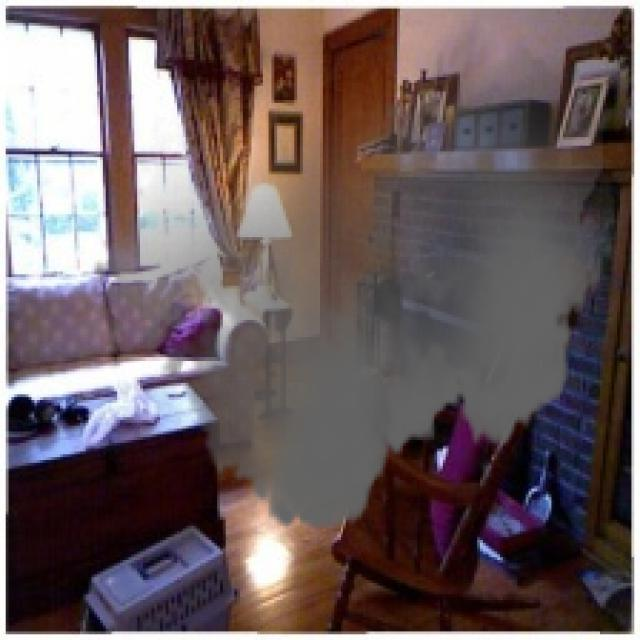Smoke: (91, 20, 614, 549)
